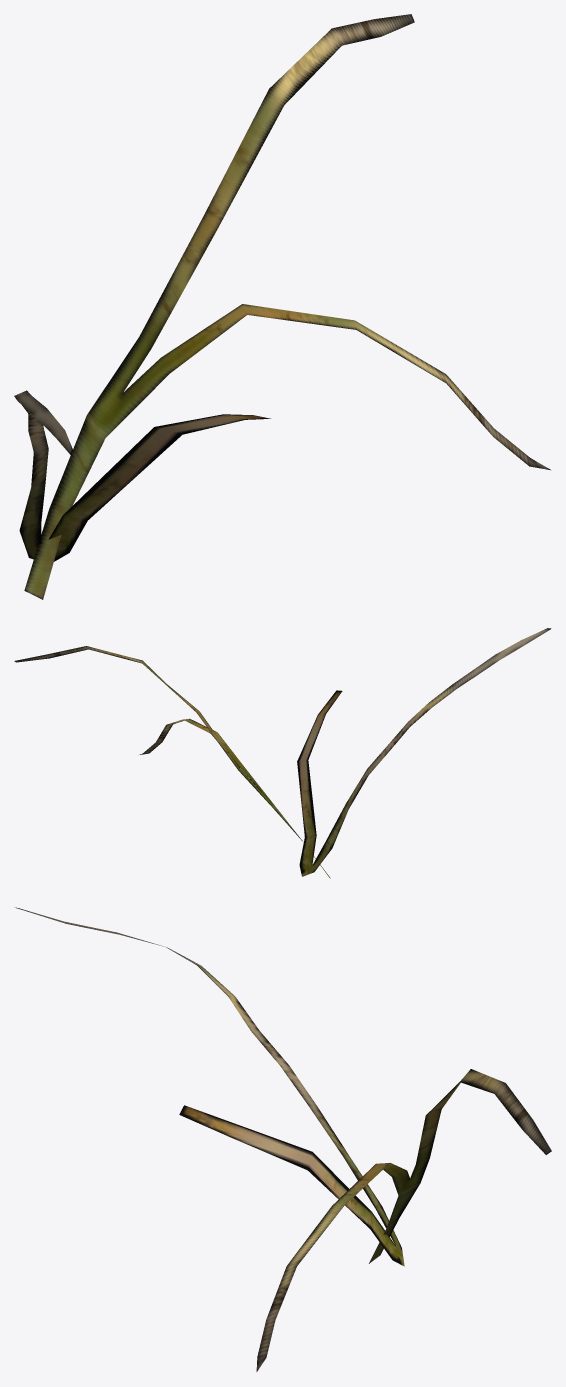
The model's file is grass_medium_01_tiny_e_LOD0.glb.
3 renders of one model, top to bottom at view 1: azimuth 30°, elevation 25°; view 2: azimuth 150°, elevation 25°; view 3: azimuth 270°, elevation 25°, orthographic. The views are drawn at different scales.
Parts seen in each view (by area): view 1: grass_medium_01_tiny_e_LOD0; view 2: grass_medium_01_tiny_e_LOD0; view 3: grass_medium_01_tiny_e_LOD0.
Boxes of the visible parts, bbox=[...] form: grass_medium_01_tiny_e_LOD0: bbox=[14, 14, 550, 599]; grass_medium_01_tiny_e_LOD0: bbox=[14, 628, 551, 878]; grass_medium_01_tiny_e_LOD0: bbox=[15, 907, 551, 1371].
Bounding box in the file's own units: 0.0853 × 0.0495 × 0.0742.
Materials: 1 (1 with a texture image).
